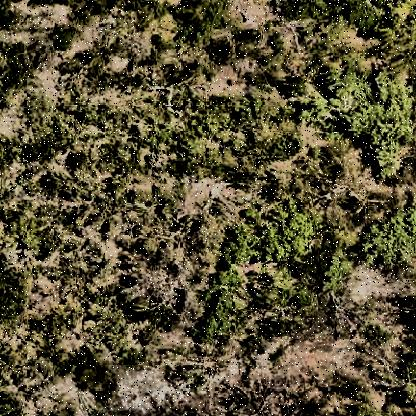tree-top: (320, 62, 416, 176), (223, 204, 317, 268), (362, 205, 416, 273), (196, 268, 240, 349), (172, 1, 229, 57)
